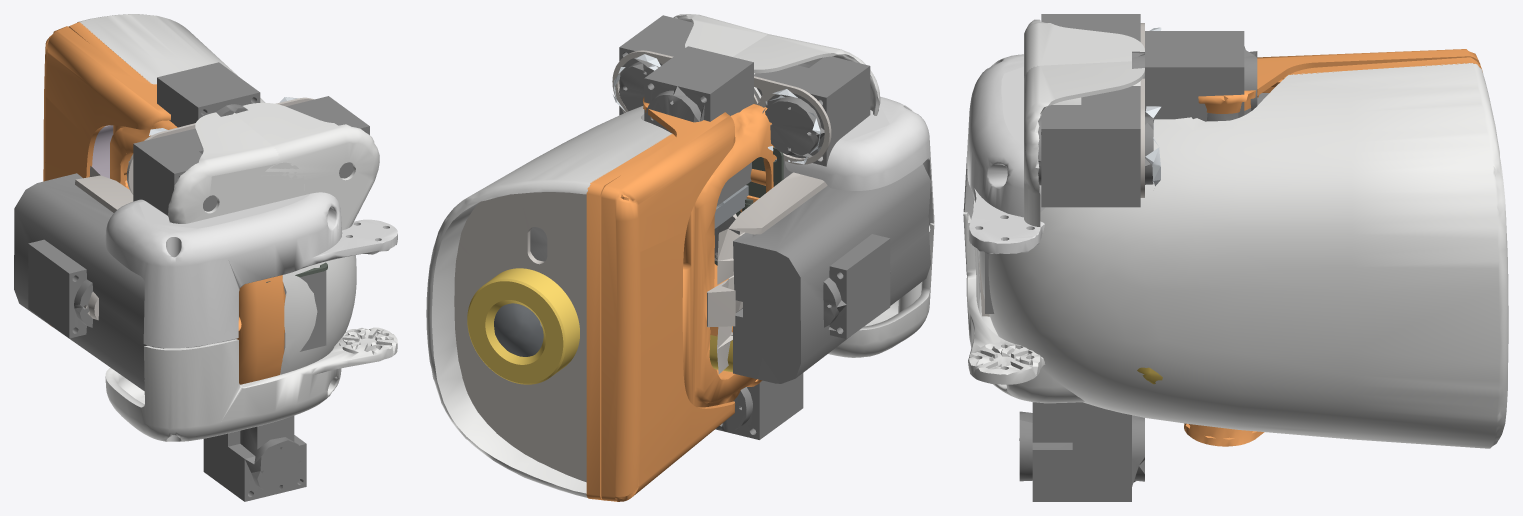
The model's file is duck.glb.
The picture shows the model from 3 angles, left to right: view 1: azimuth 30°, elevation 25°; view 2: azimuth 150°, elevation 25°; view 3: azimuth 270°, elevation 25°; orthographic projection. The views are drawn at different scales.
Parts seen in each view (by area): view 1: game_trunk_base_body_5, game_trunk_base_body_7, game_trunk_base_body_2, game_jaw_soft_jaw_1, game_jaw_soft_body_9, game_upper_leg_right_body_3, game_upper_leg_left_body_3, game_jaw_soft_body_11, game_neck_body_0, game_leg_2_body_0, game_leg_body_0, game_upper_leg_right_body_0 (+5 smaller); view 2: game_jaw_soft_jaw_1, game_trunk_base_body_2, game_jaw_soft_body_6, game_jaw_soft_body_9, game_jaw_soft_body_11, game_jaw_soft_body_10, game_upper_leg_right_body_0, game_trunk_base_body_5, game_leg_body_0, game_trunk_base_body_4, game_leg_2_body_0, game_trunk_base_body_7 (+9 smaller); view 3: game_jaw_soft_body_9, game_upper_leg_left_body_0, game_neck_body_0, game_trunk_base_body_5, game_leg_body_0, game_trunk_base_body_7, game_upper_leg_left_body_3, game_jaw_soft_jaw_1, game_upper_leg_right_body_3, game_upper_leg_right_body_0, game_jaw_soft_body_11, game_upper_leg_left_body_1.
Boxes of the visible parts, <box> form: game_trunk_base_body_5: <box>105,192,397,348</box>; game_trunk_base_body_7: <box>105,327,397,441</box>; game_trunk_base_body_2: <box>14,173,148,390</box>; game_jaw_soft_jaw_1: <box>43,26,170,325</box>; game_jaw_soft_body_9: <box>77,14,356,374</box>; game_upper_leg_right_body_3: <box>168,112,304,223</box>; game_upper_leg_left_body_3: <box>234,102,379,230</box>; game_jaw_soft_body_11: <box>68,22,285,384</box>; game_neck_body_0: <box>203,416,306,501</box>; game_leg_2_body_0: <box>28,239,93,338</box>; game_leg_body_0: <box>157,62,260,127</box>; game_upper_leg_right_body_0: <box>133,128,217,215</box>; game_jaw_soft_jaw_1: <box>601,97,735,501</box>; game_trunk_base_body_2: <box>733,164,930,383</box>; game_jaw_soft_body_6: <box>454,192,586,482</box>; game_jaw_soft_body_9: <box>426,106,672,497</box>; game_jaw_soft_body_11: <box>586,104,776,500</box>; game_jaw_soft_body_10: <box>467,268,579,384</box>; game_upper_leg_right_body_0: <box>754,56,870,166</box>; game_trunk_base_body_5: <box>785,96,934,224</box>; game_leg_body_0: <box>644,46,753,205</box>; game_trunk_base_body_4: <box>707,172,827,374</box>; game_leg_2_body_0: <box>823,234,890,339</box>; game_trunk_base_body_7: <box>828,221,934,357</box>; game_jaw_soft_body_9: <box>979,63,1508,448</box>; game_upper_leg_left_body_0: <box>1038,86,1153,207</box>; game_neck_body_0: <box>1019,402,1144,501</box>; game_trunk_base_body_5: <box>963,54,1045,253</box>; game_leg_body_0: <box>1132,31,1257,121</box>; game_trunk_base_body_7: <box>963,200,1084,403</box>; game_upper_leg_left_body_3: <box>1024,61,1144,226</box>; game_jaw_soft_jaw_1: <box>1184,49,1480,446</box>; game_upper_leg_right_body_3: <box>1024,19,1144,116</box>; game_upper_leg_right_body_0: <box>1041,14,1140,41</box>; game_jaw_soft_body_11: <box>1257,57,1482,97</box>; game_upper_leg_left_body_1: <box>1140,78,1144,197</box>.
Size of the model in its own units: 0.0933 by 0.111 by 0.1262.
